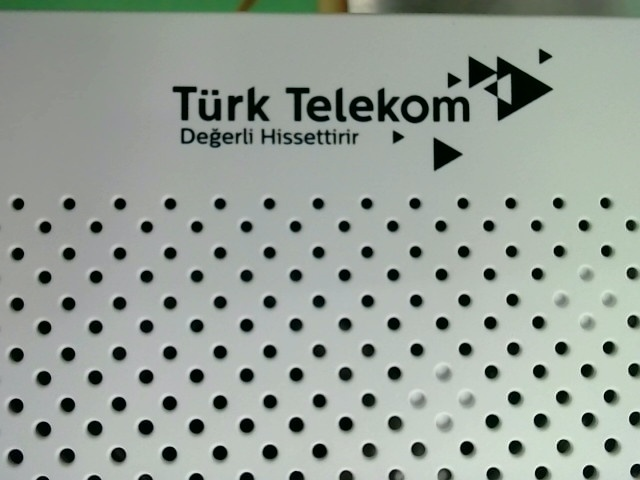AQ_TURKTelekom: (164, 31, 561, 180)
